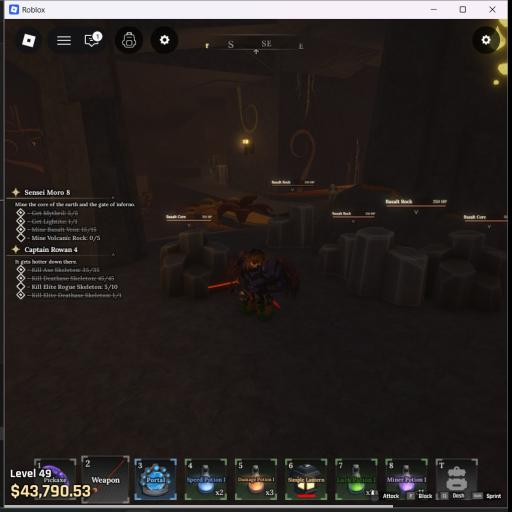player: (228, 249, 300, 321)
rock: (396, 230, 507, 312), (317, 227, 428, 305), (159, 229, 231, 299), (267, 204, 313, 248)
